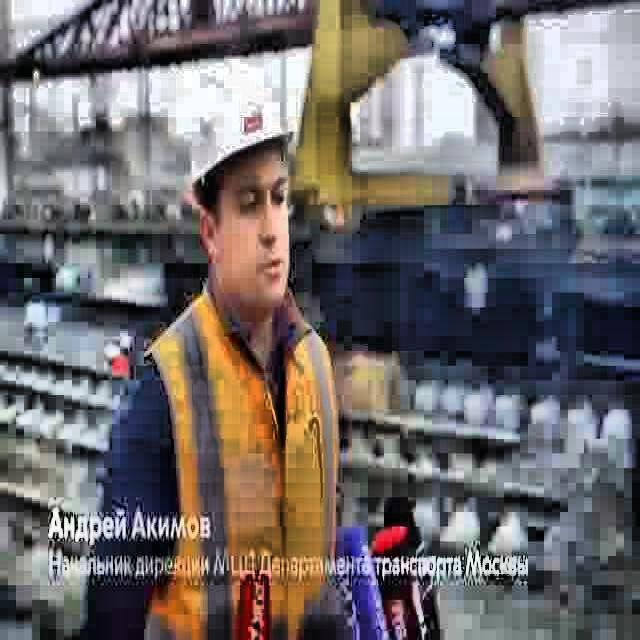safety_jacket: (144, 289, 342, 640)
